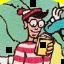waldo: (17, 7, 49, 38)
